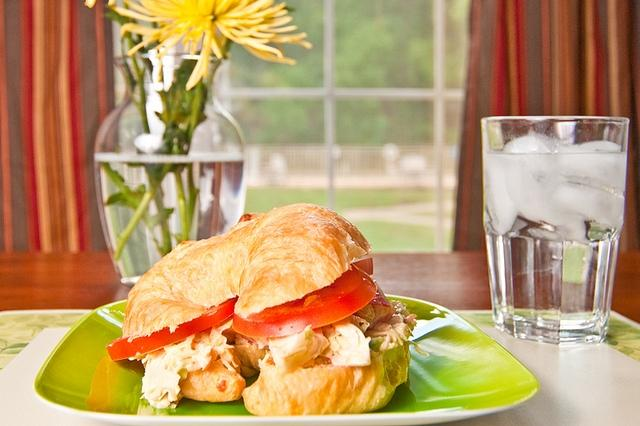tomato: (105, 296, 238, 361)
